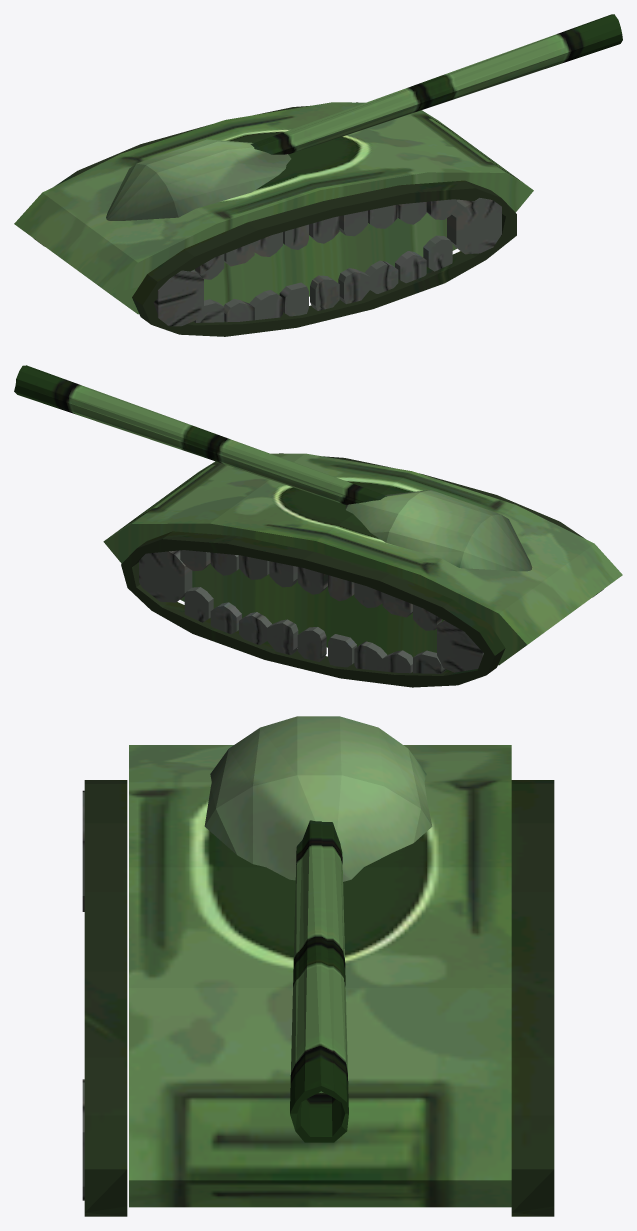
Rendered from Tank.glb.
3 views of the same model, one above another, from view 1: azimuth 30°, elevation 25°; view 2: azimuth 150°, elevation 25°; view 3: azimuth 270°, elevation 25° (orthographic). The views are drawn at different scales.
Parts seen in each view (by area): view 1: Tank; view 2: Tank; view 3: Tank.
Part boxes in pixels (x1,y1,x2,y2): Tank: [14, 14, 622, 336]; Tank: [14, 365, 622, 687]; Tank: [82, 716, 554, 1216].
Size of the model in its own units: 522 by 160 by 192.
Materials: 1 (1 with a texture image).
